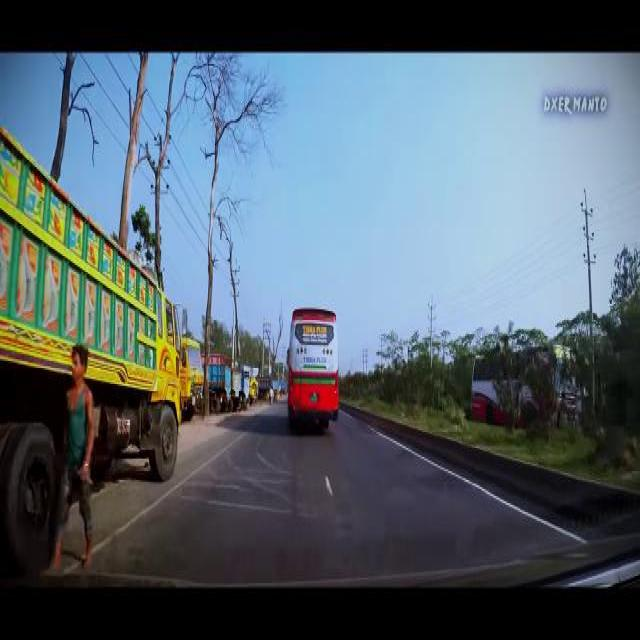18: (0, 121, 185, 576), (181, 334, 203, 409)
Truck: (468, 341, 582, 423), (286, 305, 338, 420)
